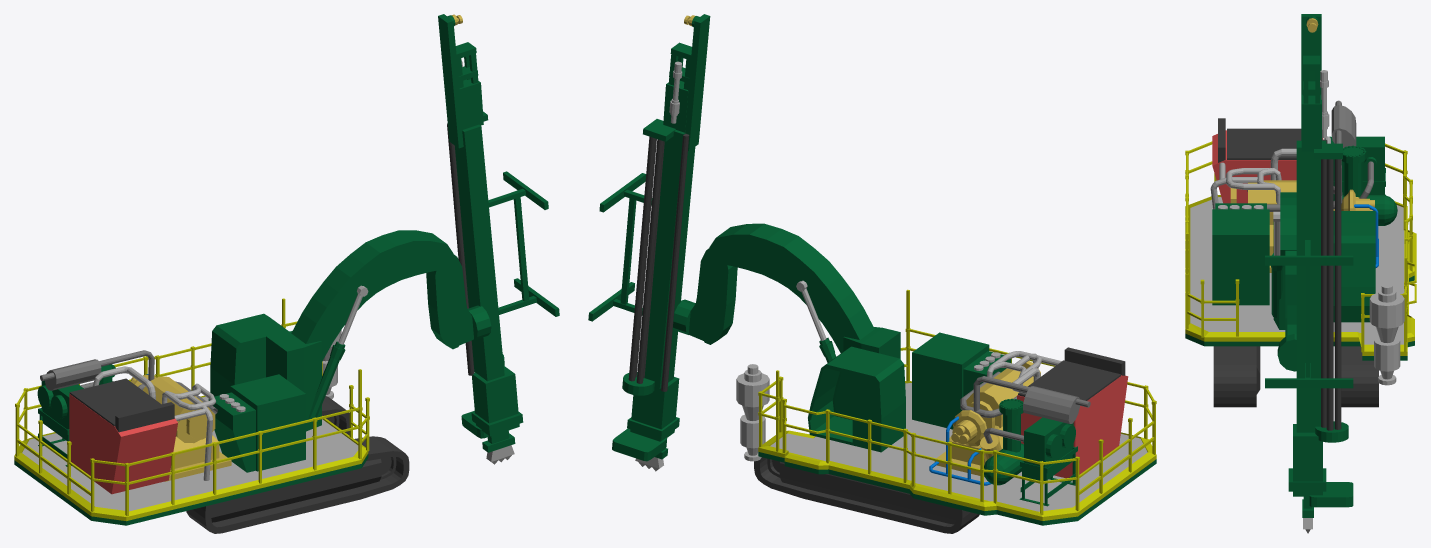
Rendered from another_base.dae.
3 renders of one model, left to right at view 1: azimuth 30°, elevation 25°; view 2: azimuth 150°, elevation 25°; view 3: azimuth 270°, elevation 25°, orthographic. The views are drawn at different scales.
Visible parts, largest first — view 1: 20220825 Rockcommander First Centered_with material colour b; view 2: 20220825 Rockcommander First Centered_with material colour b; view 3: 20220825 Rockcommander First Centered_with material colour b.
Boxes of the visible parts, <box> form: 20220825 Rockcommander First Centered_with material colour b: <box>14,14,559,533</box>; 20220825 Rockcommander First Centered_with material colour b: <box>588,14,1156,533</box>; 20220825 Rockcommander First Centered_with material colour b: <box>1185,14,1416,533</box>.
Size of the model in its own units: 30.44 by 11.59 by 27.05.
